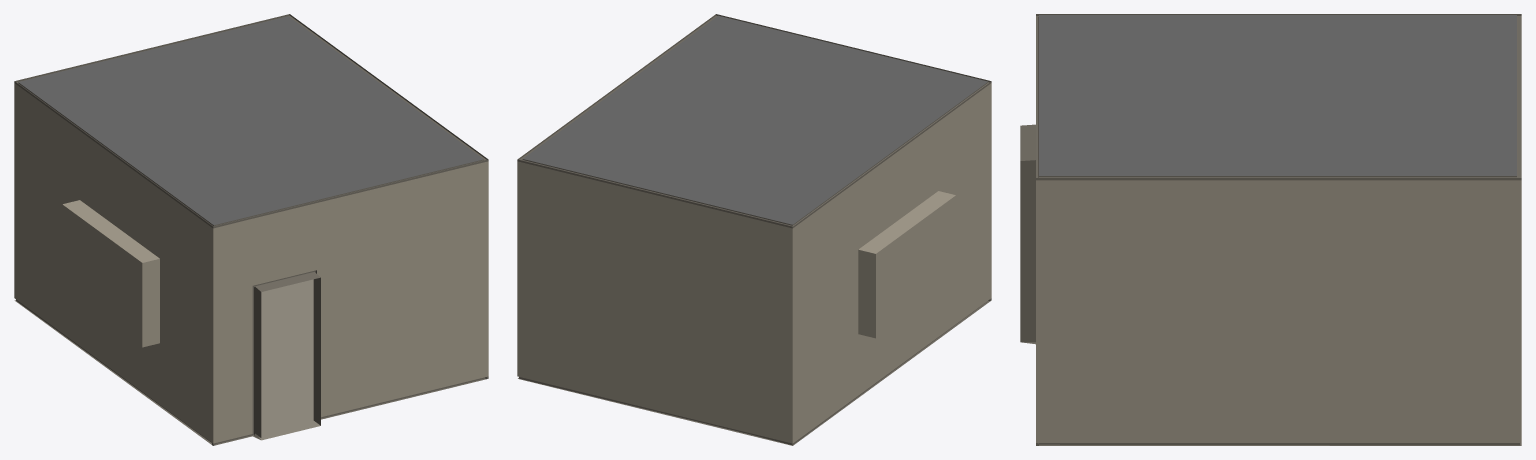
The model's file is Bedroom_03.fbx.
3 views of the same model, side by side, from view 1: azimuth 30°, elevation 25°; view 2: azimuth 150°, elevation 25°; view 3: azimuth 270°, elevation 25° (orthographic). The views are drawn at different scales.
Parts seen in each view (by area): view 1: RoomInterior; view 2: RoomInterior; view 3: RoomInterior.
Part boxes in pixels (box(x1,y1,x2,y2)): RoomInterior: box(14, 14, 488, 445); RoomInterior: box(517, 14, 991, 445); RoomInterior: box(1020, 14, 1521, 445).
Bounding box in the file's own units: 426 × 304 × 516.
